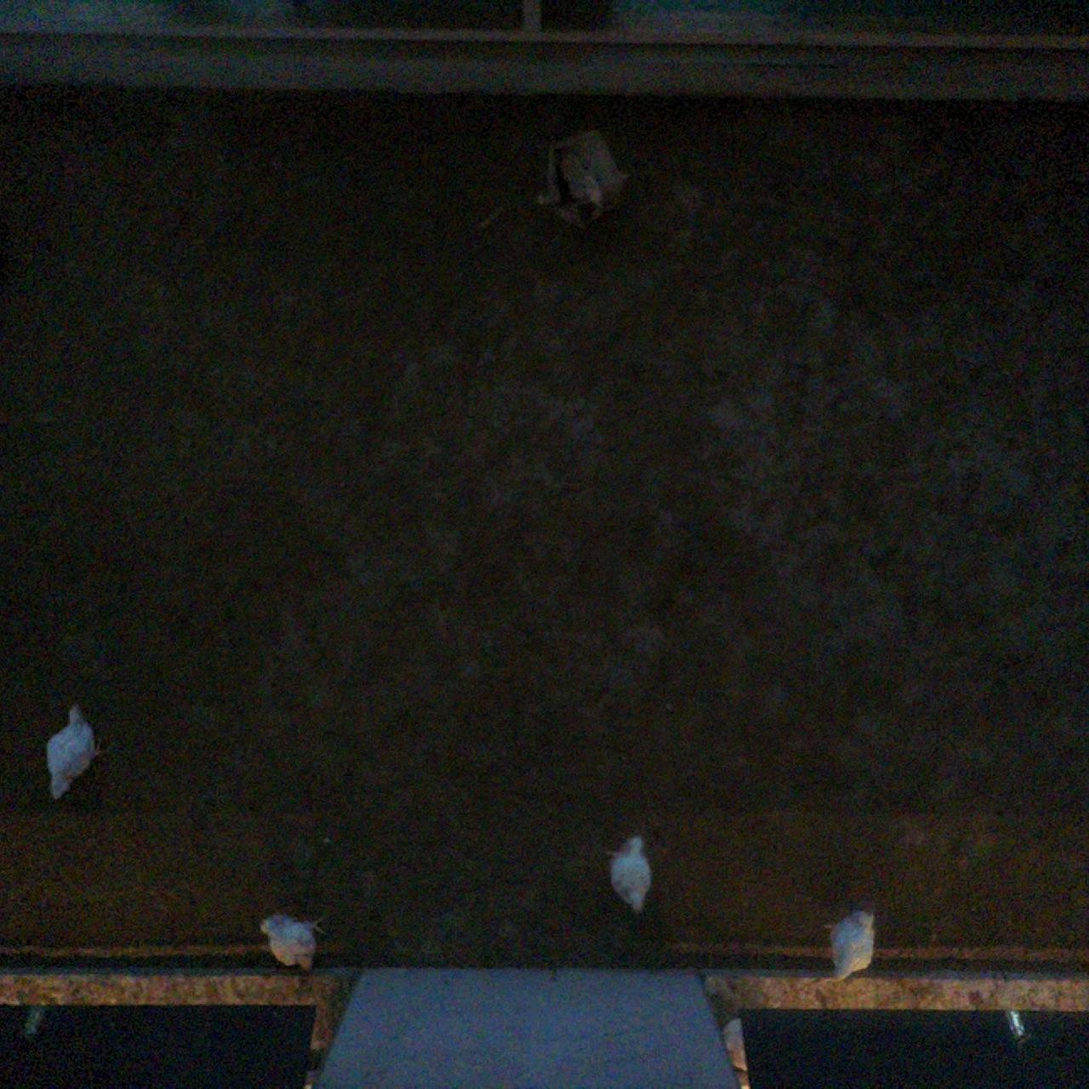chicken: (36, 698, 108, 805), (598, 828, 664, 919), (817, 902, 885, 986), (253, 906, 333, 977)
